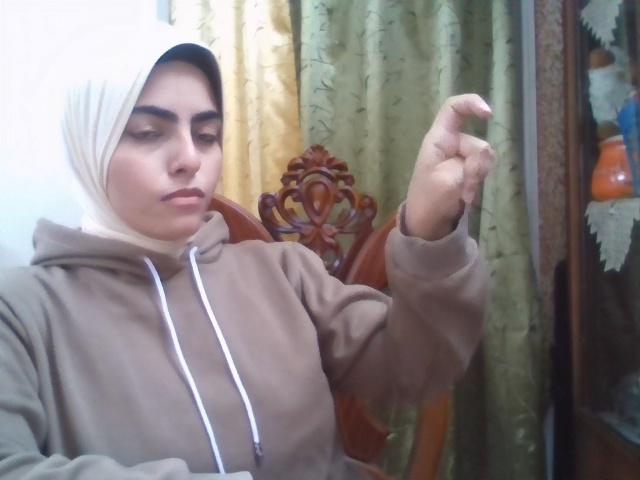X: (405, 94, 496, 220)
